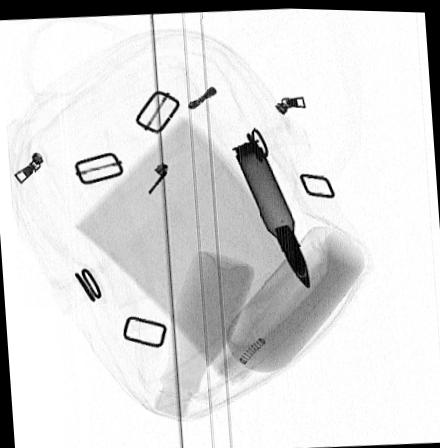Bullet: (231, 135, 311, 286)
